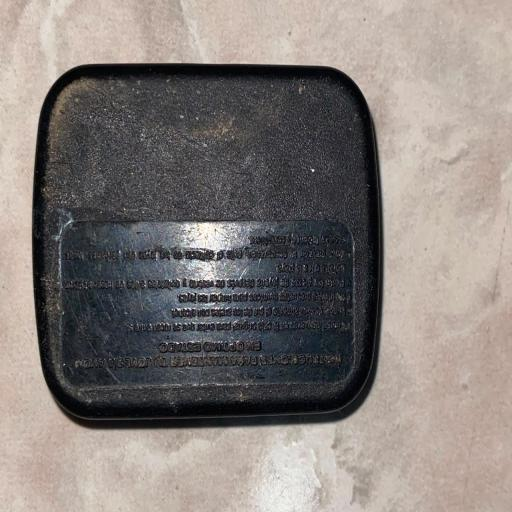HDPE: (8, 62, 385, 427)
